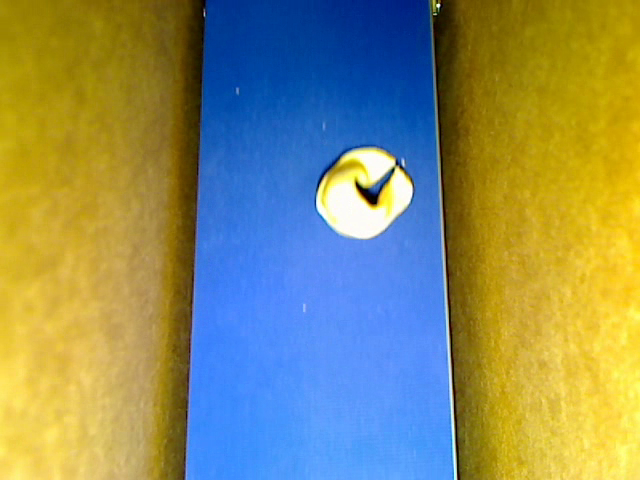tortellini: (315, 146, 413, 240)
